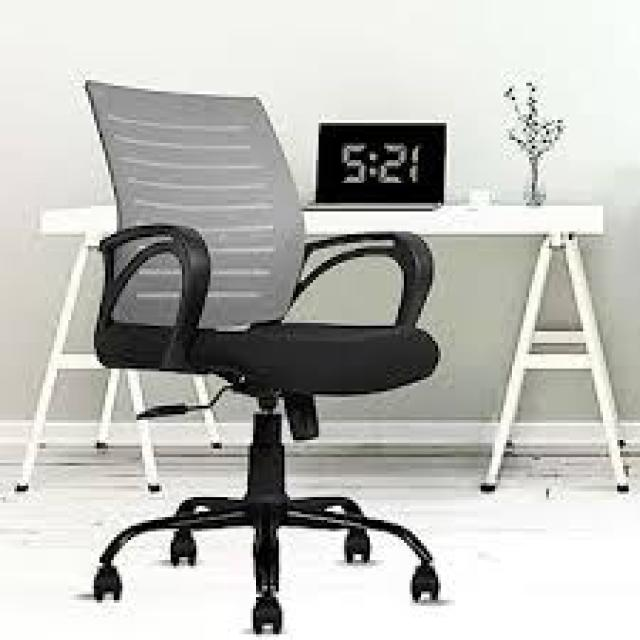chair: (32, 47, 489, 640)
